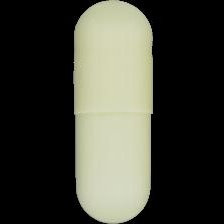33261-860: (0, 0, 224, 224)
